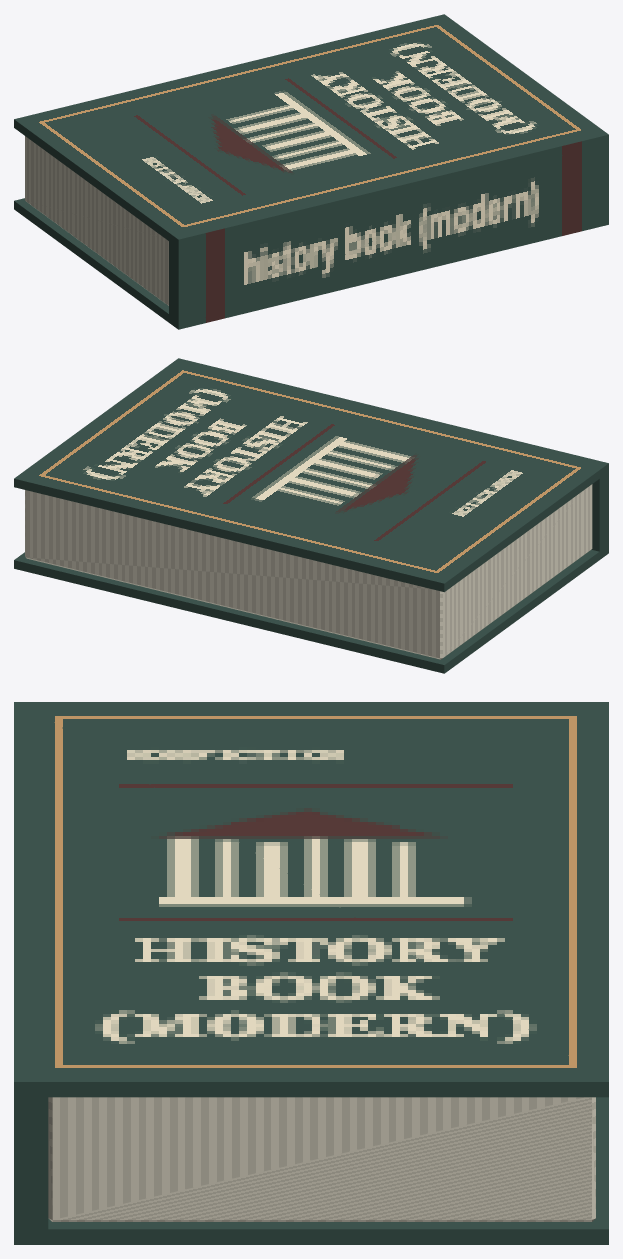
Rendered from book_nonf_hard_history_modern.glb.
The picture shows the model from 3 angles, top to bottom: view 1: azimuth 30°, elevation 25°; view 2: azimuth 150°, elevation 25°; view 3: azimuth 270°, elevation 25°; orthographic projection. The views are drawn at different scales.
Visible parts, largest first — view 1: block_front, block_spine, block_pages, block_back; view 2: block_front, block_pages, block_back, block_spine; view 3: block_front, block_pages, block_spine, block_back.
Part boxes in pixels (<box>): block_front: <box>14,14,606,245</box>; block_spine: <box>169,127,608,329</box>; block_pages: <box>25,136,168,305</box>; block_back: <box>14,198,175,327</box>; block_front: <box>14,360,606,592</box>; block_pages: <box>25,484,592,659</box>; block_back: <box>14,547,606,673</box>; block_spine: <box>173,358,608,554</box>; block_front: <box>22,702,608,1097</box>; block_pages: <box>48,1097,595,1221</box>; block_spine: <box>14,702,48,1244</box>; block_back: <box>22,1097,608,1244</box>.
Bounding box in the file's own units: 0.255 × 0.051 × 0.1688.
Materials: 1 (1 with a texture image).
